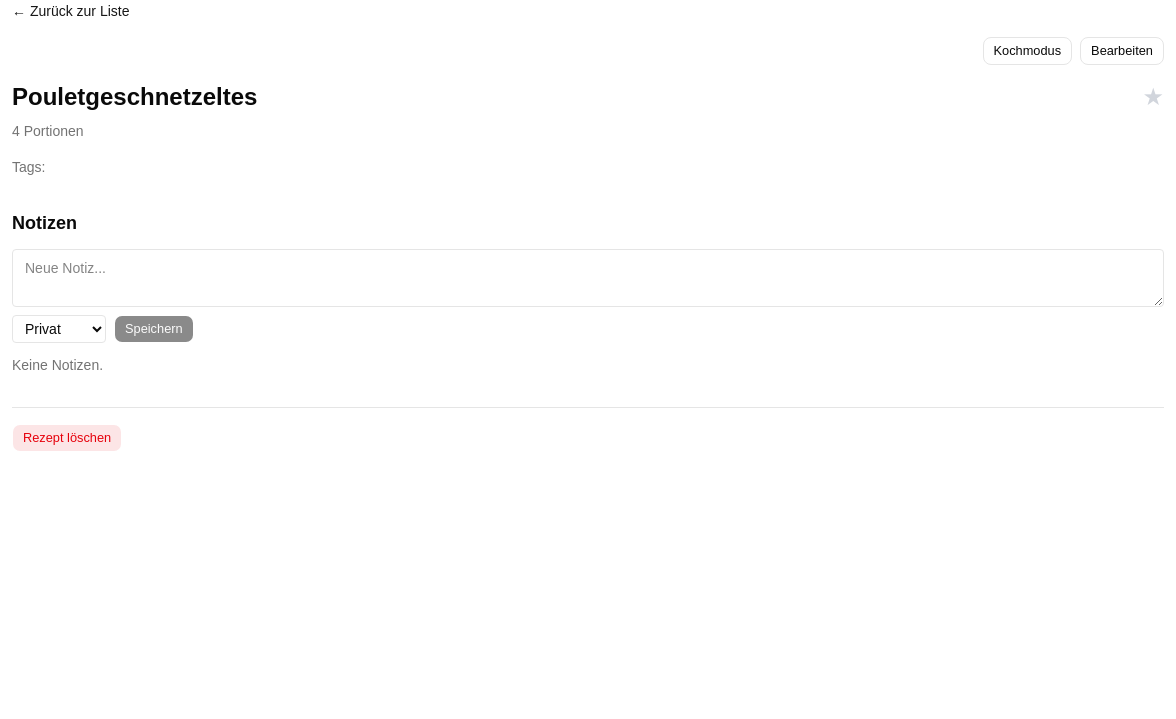
it: RecipeDetailPage inline edit mode › shows the admin delete button only in read mode and only to admins
This screenshot has width=1176, height=719.
expect the button "Rezept löschen" is shown: met, box [12, 424, 122, 452]
Click the button "Bearbeiten" at coordinates (1122, 51), box [1080, 37, 1164, 65]
(page scrolled)
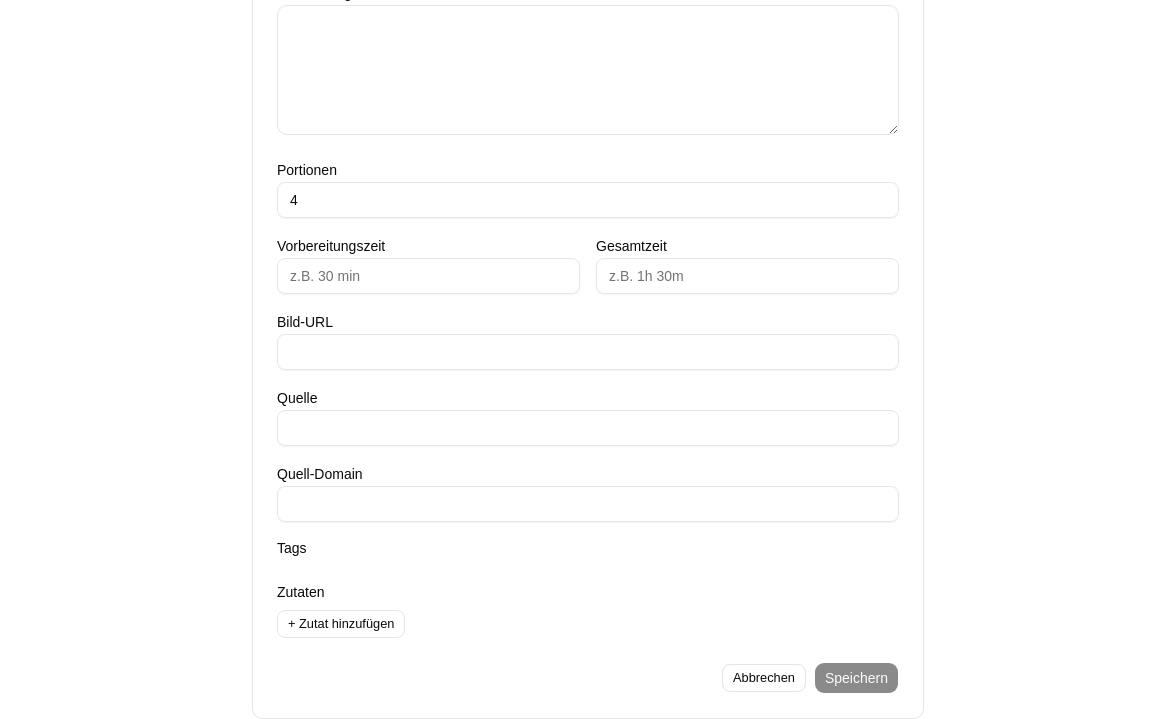
expect the button "Rezept löschen" is gone: met
Click the button "Abbrechen" at coordinates (764, 678), box [722, 664, 806, 692]
(page scrolled)
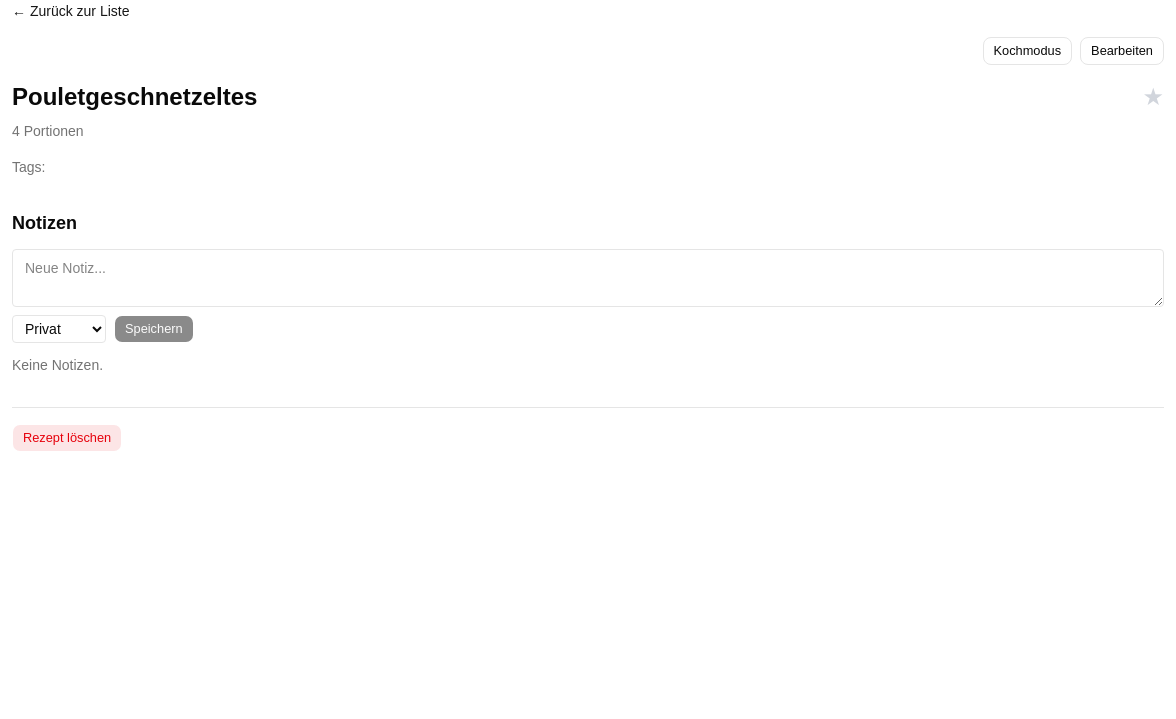
expect the button "Rezept löschen" is shown: met, box [12, 424, 122, 452]
